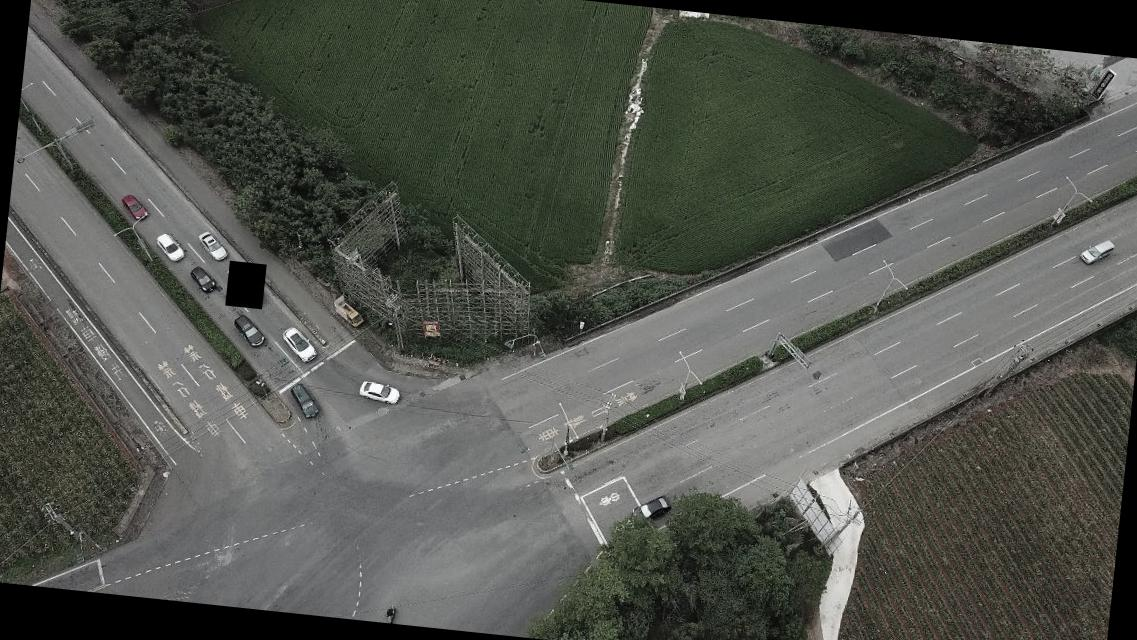vehicle: (279, 324, 318, 366), (230, 310, 269, 349), (629, 492, 671, 528), (356, 376, 401, 404), (286, 381, 319, 418), (194, 229, 229, 262), (1080, 234, 1116, 266), (188, 261, 221, 295), (152, 232, 187, 264), (116, 193, 148, 220), (336, 300, 364, 326)
